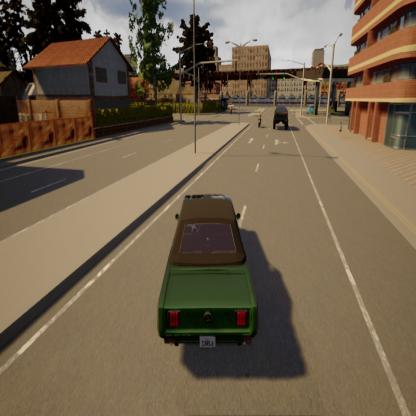Cars: (158, 194, 258, 349), (274, 104, 288, 130), (306, 102, 316, 116), (256, 107, 262, 128)
Pedestrian: (338, 119, 343, 134), (293, 104, 296, 118)
